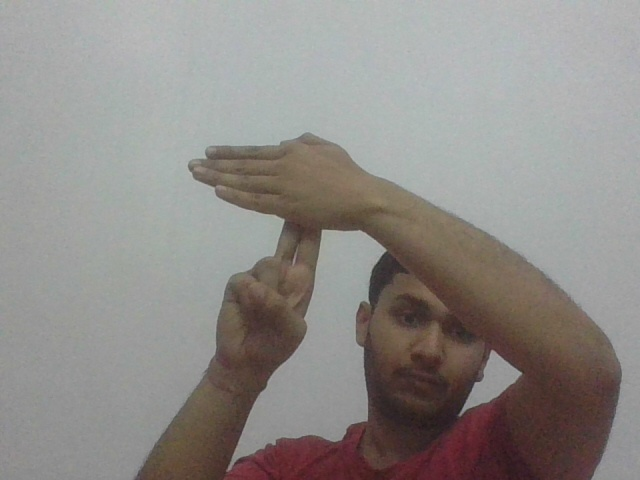N: (186, 130, 357, 264)
